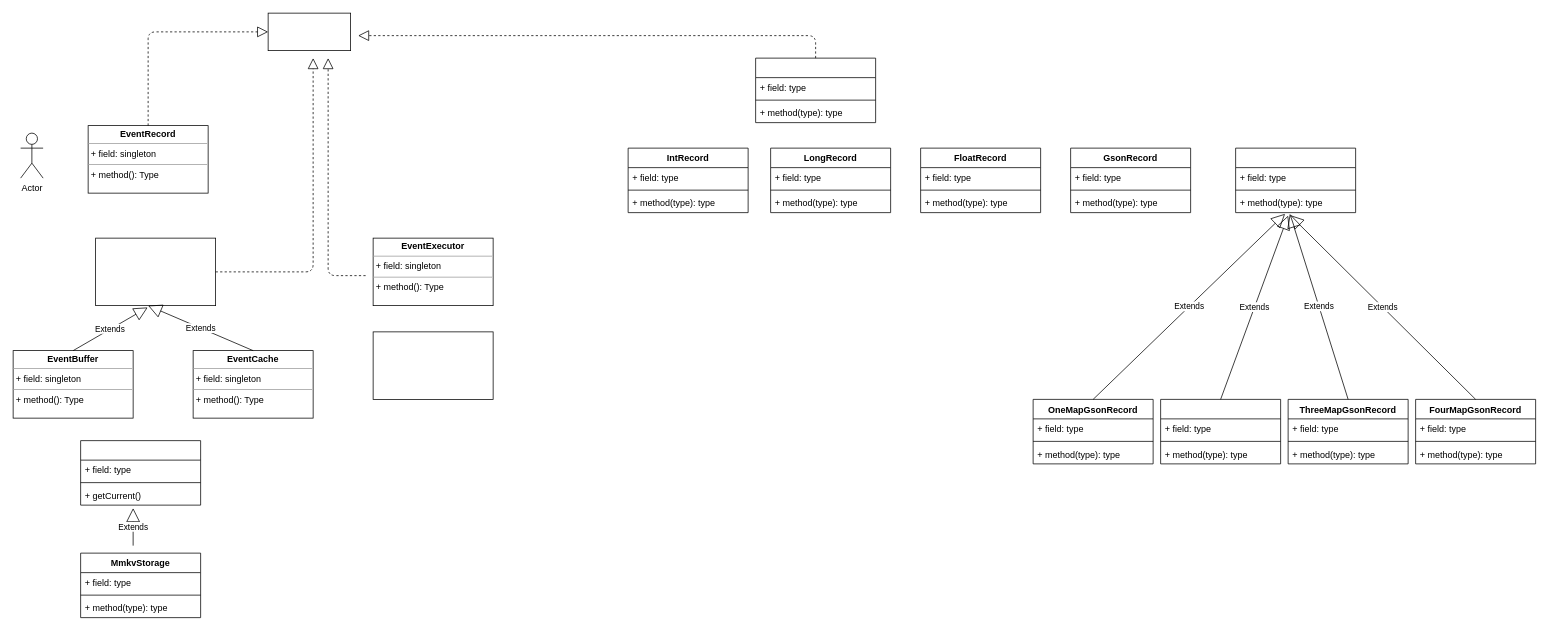
The diagram is 1549 pixels wide and 633 high, and some of its shapes have lost their labels. Here are the shapes that lost their labels. From the top down, the box of each, then its label:
(267, 12, 351, 51): Event
(755, 57, 876, 123): Record
(1235, 147, 1356, 213): GsonMapRecord
(95, 237, 216, 306): EventDecorator + field: singleton + method(): Type
(372, 331, 493, 399): EventExecutorImpl + field: singleton + method(): Type
(1160, 399, 1281, 464): TwoMapGsonRecord
(80, 440, 201, 505): Storage
